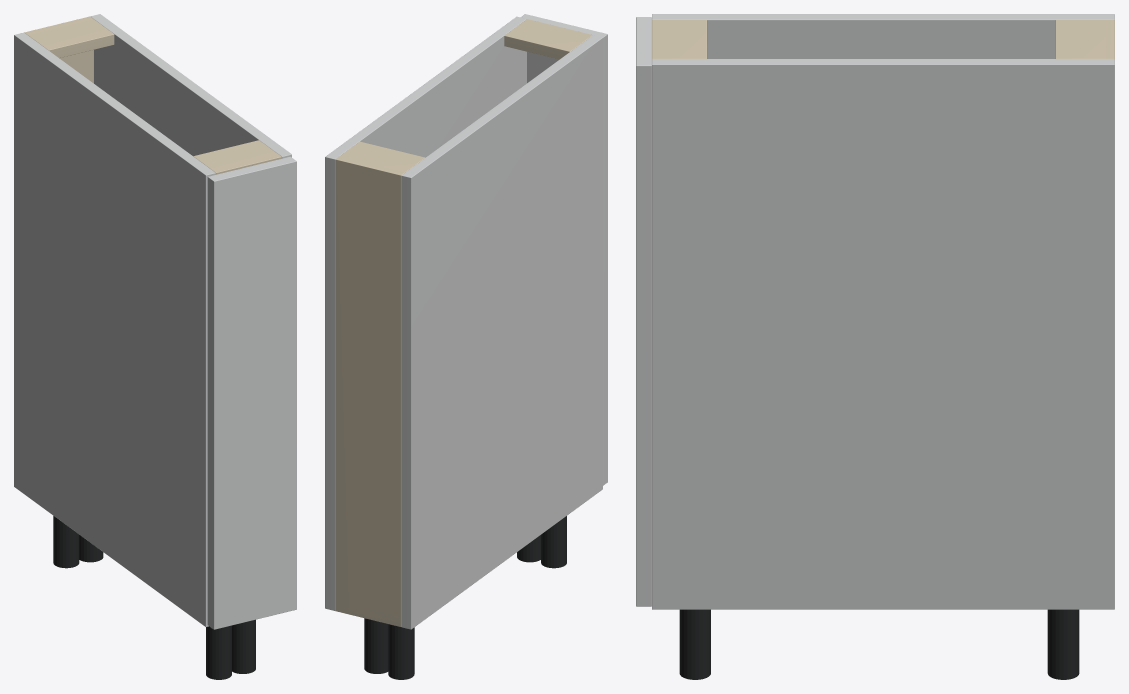
Rendered from oppein-ply-pgw-bsr06.glb.
3 views of the same model, side by side, from view 1: azimuth 30°, elevation 25°; view 2: azimuth 150°, elevation 25°; view 3: azimuth 270°, elevation 25° (orthographic). The views are drawn at different scales.
Parts seen in each view (by area): view 1: Cabinet side, Door, Cabinet side.001, Top support rail, Top support rail.001, Adjustable foot.001, Adjustable foot.003, Adjustable foot, Cabinet back, Adjustable foot.002; view 2: Cabinet side, Cabinet back, Cabinet side.001, Door, Top support rail.001, Adjustable foot, Top support rail, Adjustable foot.002, Adjustable foot.001, Adjustable foot.003; view 3: Cabinet side.001, Cabinet side, Door, Adjustable foot.002, Adjustable foot.003, Top support rail.001, Top support rail.
Part boxes in pixels (left/top/right/bottom): Cabinet side: left=14, top=32, right=215, bottom=626; Door: left=207, top=156, right=296, bottom=629; Cabinet side.001: left=90, top=14, right=291, bottom=158; Top support rail: left=26, top=19, right=114, bottom=58; Top support rail.001: left=193, top=140, right=281, bottom=174; Adjustable foot.001: left=206, top=625, right=231, bottom=679; Adjustable foot.003: left=232, top=619, right=255, bottom=673; Adjustable foot: left=53, top=516, right=79, bottom=568; Cabinet back: left=24, top=16, right=93, bottom=83; Adjustable foot.002: left=79, top=535, right=103, bottom=562; Cabinet side: left=401, top=35, right=602, bottom=629; Cabinet back: left=335, top=156, right=403, bottom=626; Cabinet side.001: left=325, top=16, right=526, bottom=610; Door: left=520, top=14, right=607, bottom=485; Top support rail.001: left=504, top=19, right=592, bottom=59; Adjustable foot: left=388, top=624, right=414, bottom=679; Top support rail: left=339, top=141, right=425, bottom=173; Adjustable foot.002: left=364, top=618, right=388, bottom=673; Adjustable foot.001: left=541, top=516, right=566, bottom=568; Adjustable foot.003: left=517, top=535, right=540, bottom=562; Cabinet side.001: left=652, top=59, right=1114, bottom=609; Cabinet side: left=652, top=14, right=1114, bottom=58; Door: left=636, top=17, right=651, bottom=606; Adjustable foot.002: left=1047, top=609, right=1079, bottom=679; Adjustable foot.003: left=679, top=609, right=710, bottom=679; Top support rail.001: left=652, top=20, right=707, bottom=58; Top support rail: left=1055, top=20, right=1109, bottom=58.
Bounding box in the file's own units: 0.1524 × 0.8763 × 0.6064.
